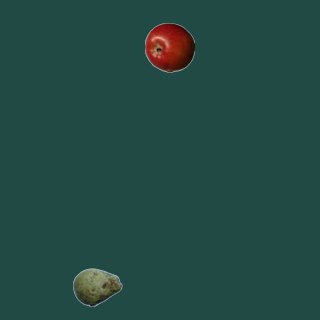Apple Braeburn: (144, 22, 194, 72)
Pear Stone: (72, 262, 122, 312)
